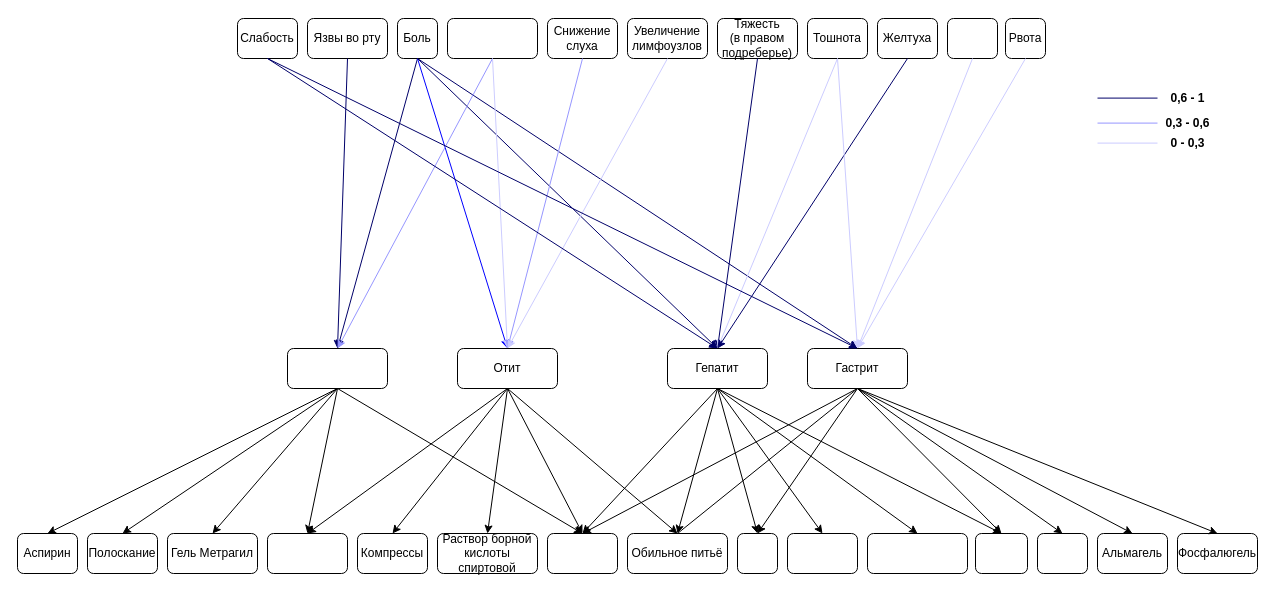
The diagram is 1275 pixels wide and 592 high, and some of its shapes have lost their labels. The centre of each missing label's shape, as x and y in pixels:
"Антибиотики" belongs at point (307, 553).
"Витамины" belongs at point (582, 553).
"Гепатопротекторы" belongs at point (917, 553).
"Диарея" belongs at point (972, 38).
"Диета" belongs at point (757, 553).
"Мезим" belongs at point (1062, 553).
"Но-шпа" belongs at point (1001, 553).
"Постельный режим" belongs at point (822, 553).
"Стоматит" belongs at point (337, 368).
"Темпертатура" belongs at point (492, 38).
